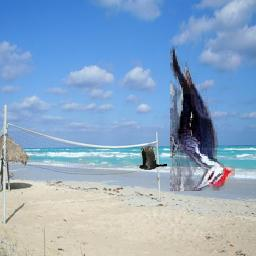Crow: (137, 146, 168, 171)
Woodpecker: (171, 47, 236, 192)
